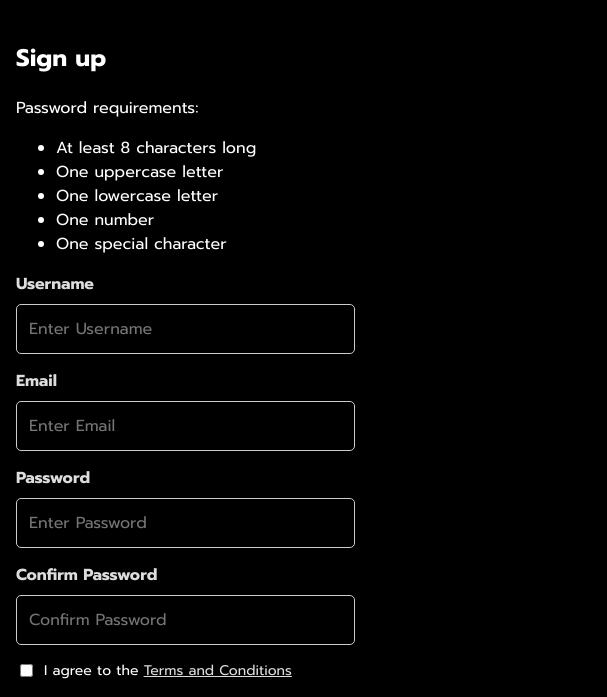
Test: Signup Component › should display validation error for missing name
Click the checkbox labelled "I agree to the Terms and Conditions" at (26, 670), box [20,664,33,677]
(page scrolled)
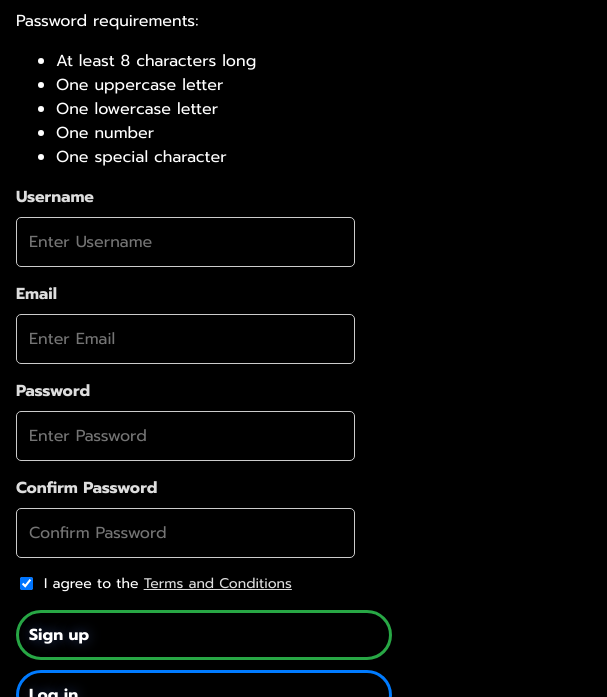
// Simulate form submission without entering a name
Click the button "Sign up" at (59, 635), box [16,610,392,660]
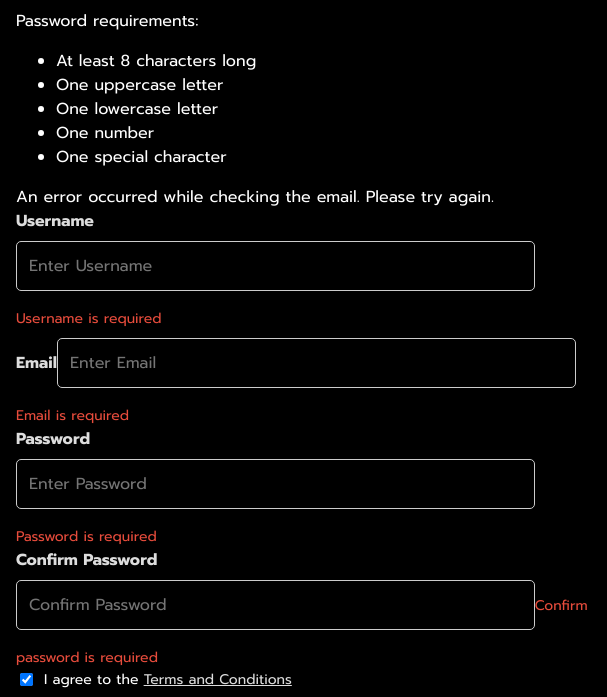
Now the text "Username is required" is shown, box [16,308,162,329]
